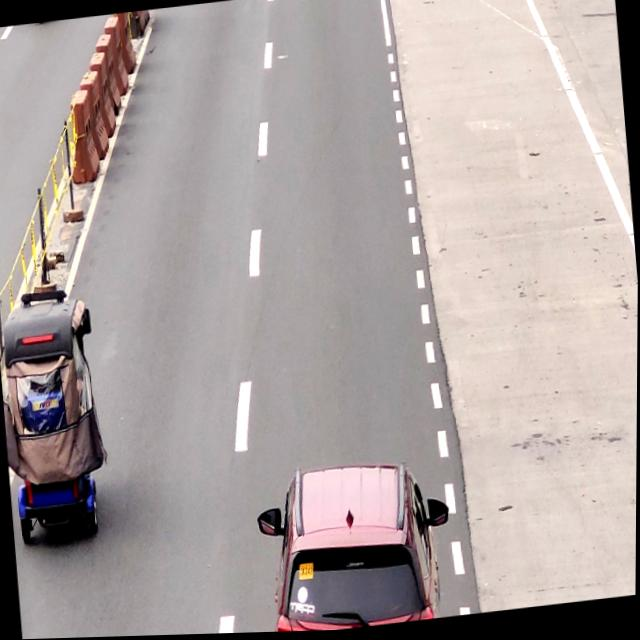Car: (258, 455, 451, 634)
